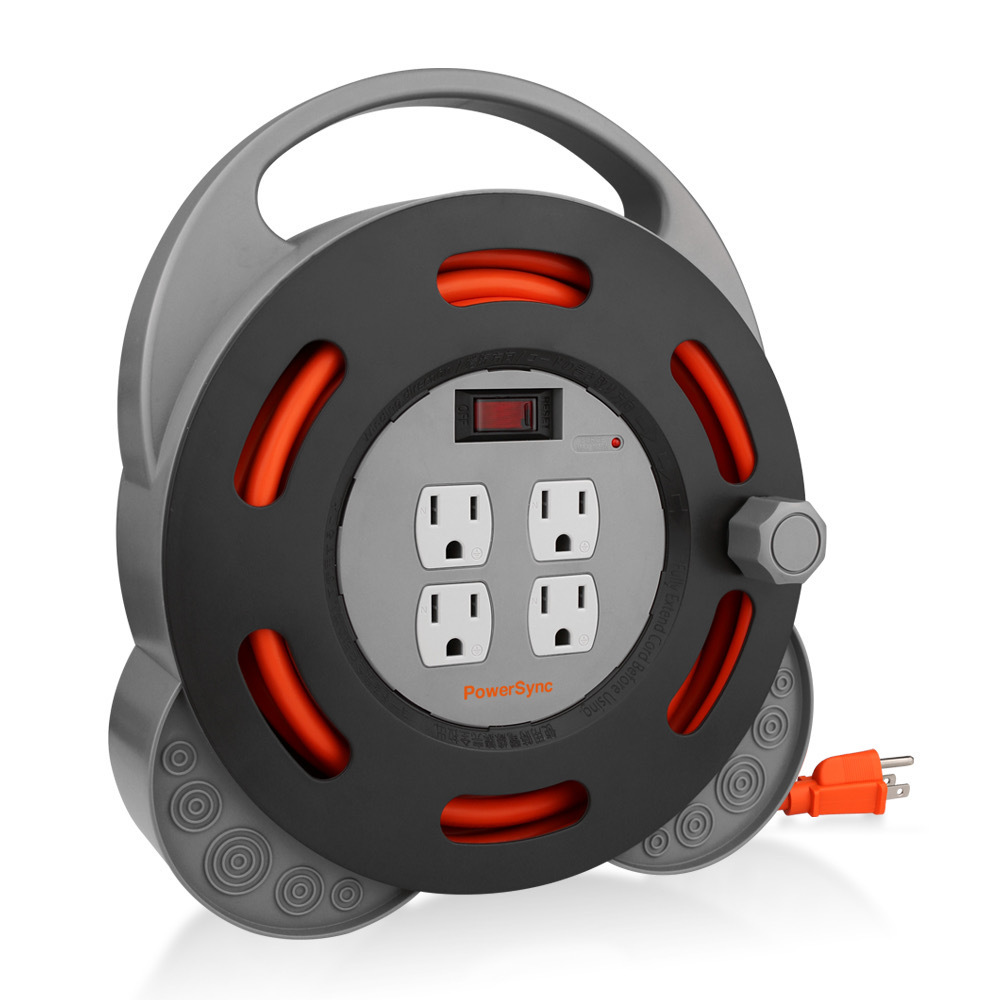socket: (121, 67, 914, 942)
